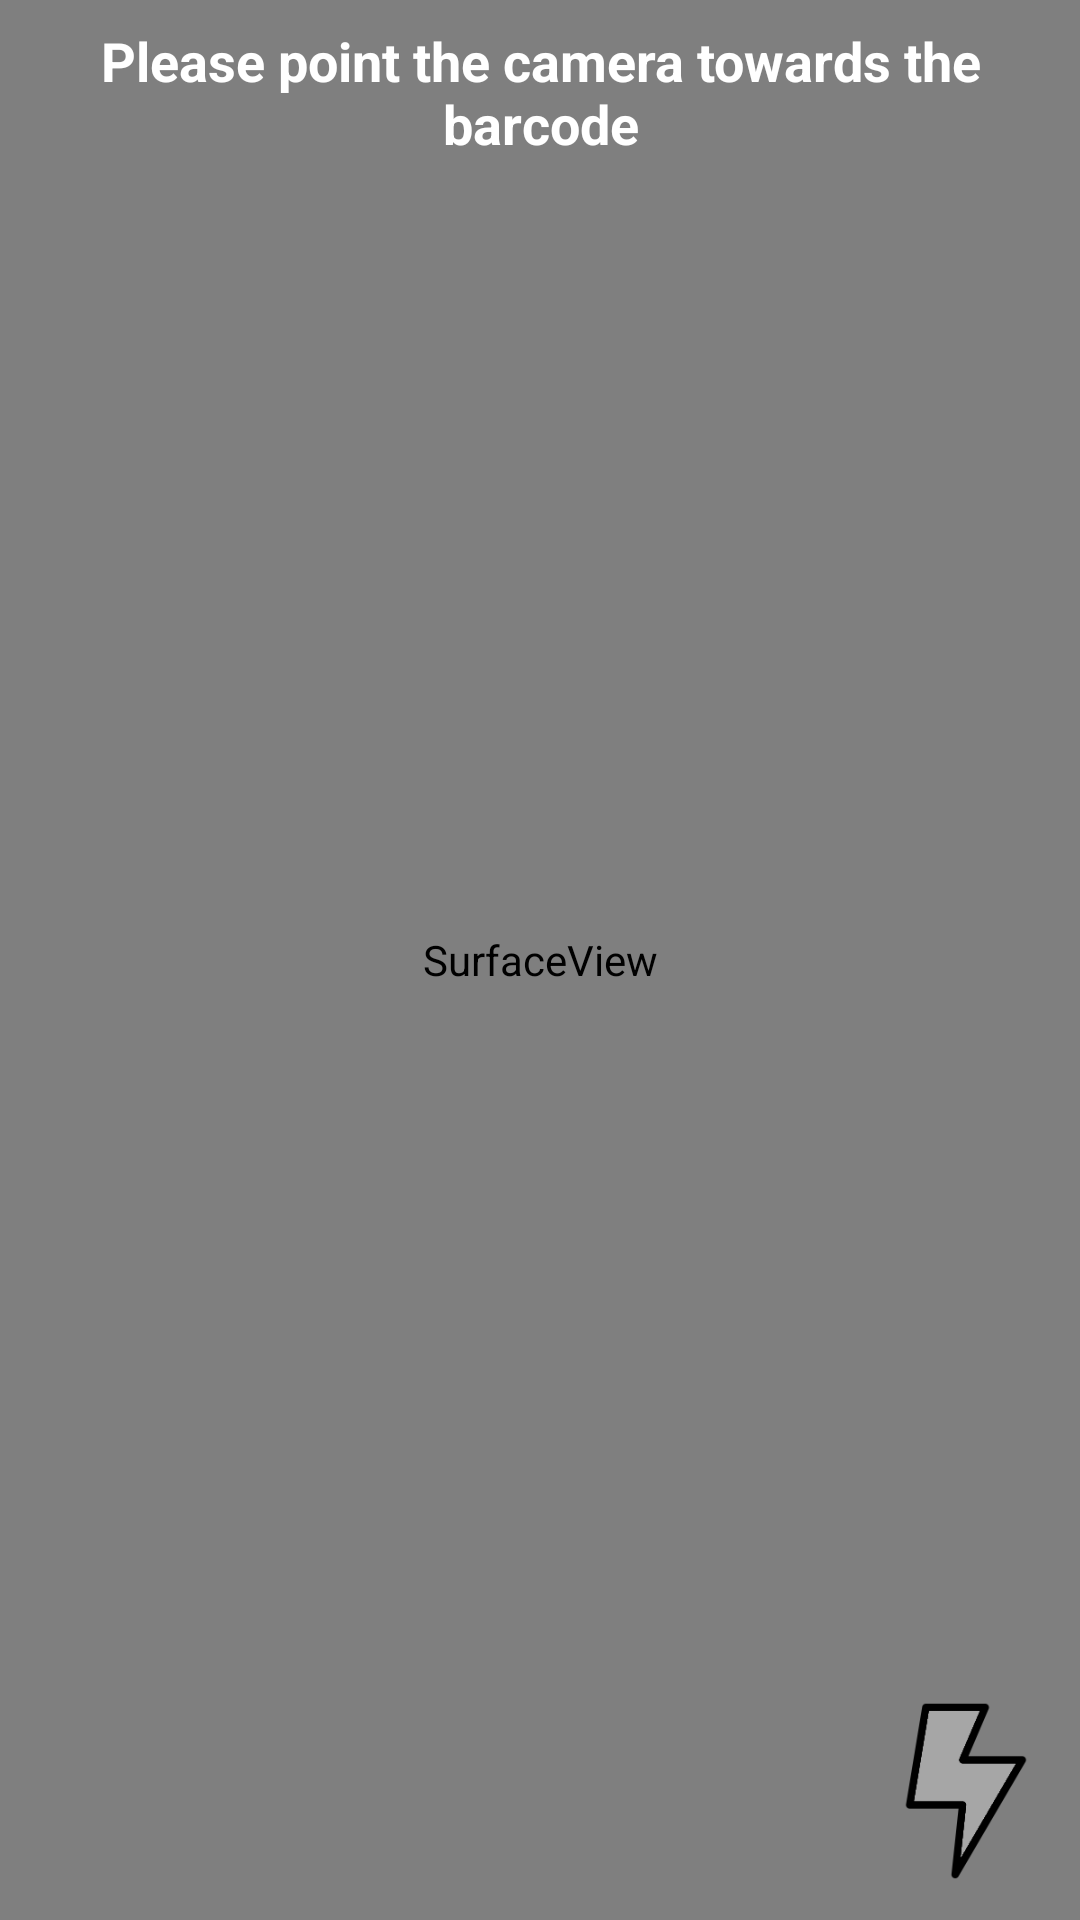

Where icons sit on this 1080 x 1920 app screen, as [x1=x1, y1=y1, x2=x2, y2=y2]:
flash: [x1=906, y1=1703, x2=1026, y2=1879]
